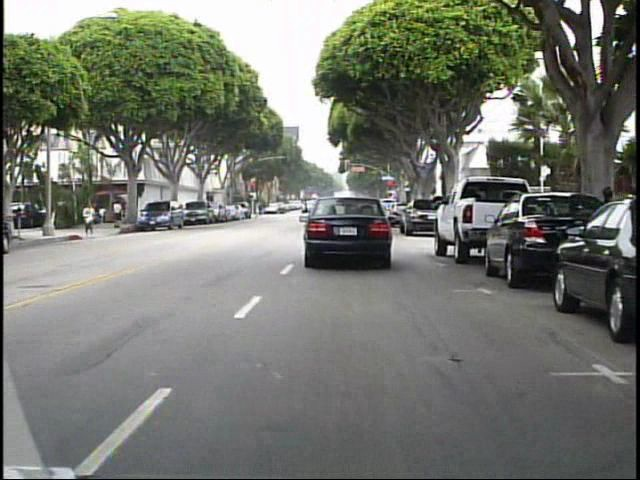person: (78, 196, 97, 239), (113, 196, 127, 228), (252, 199, 265, 221)
